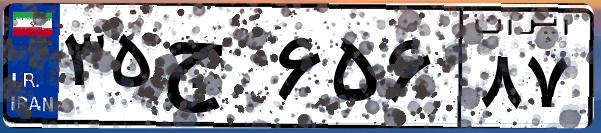3: (57, 26, 110, 100)
5: (330, 28, 385, 110), (110, 28, 158, 98)
6: (270, 28, 330, 110), (385, 28, 445, 110)
7: (525, 38, 570, 115)
8: (475, 38, 525, 113)
ج: (158, 20, 270, 120)
